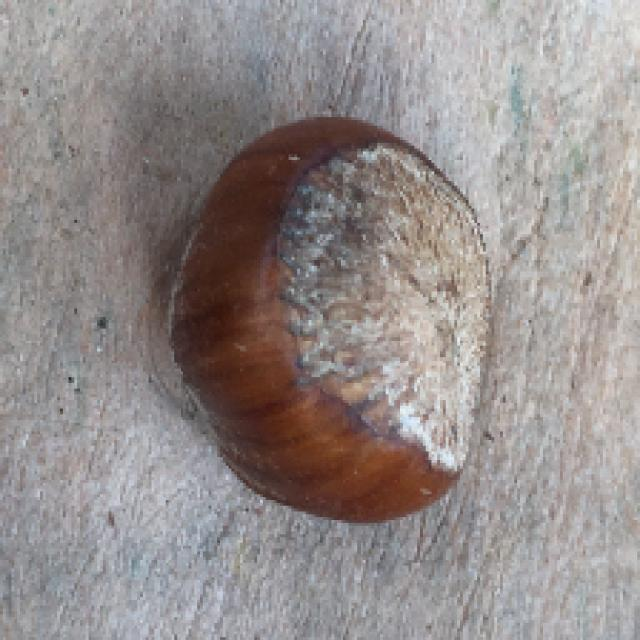damagedHazelnut: (145, 114, 507, 526)
